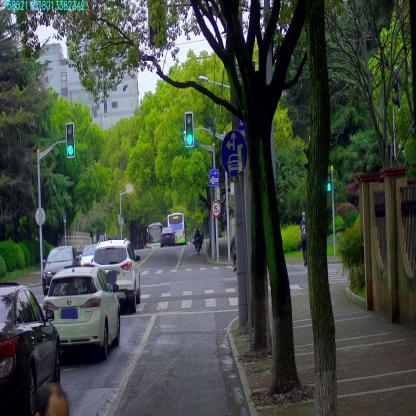traffic-light: (185, 112, 194, 146), (66, 123, 74, 157)
